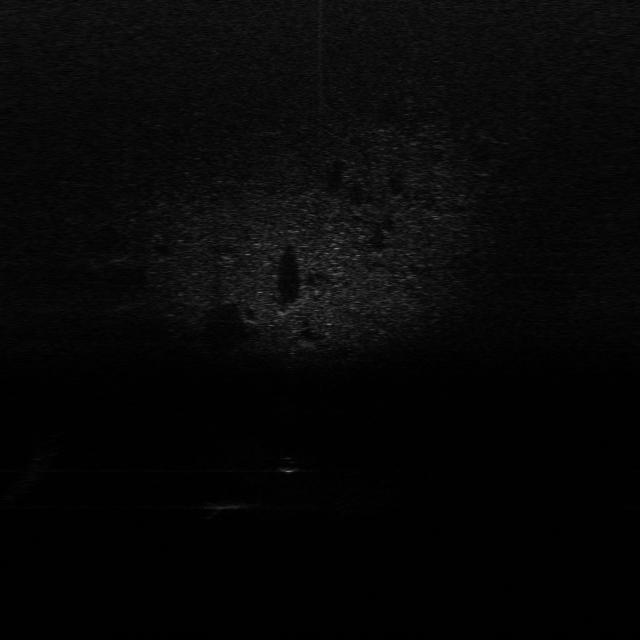ball: (270, 454, 300, 476)
square cage: (206, 498, 247, 518)
